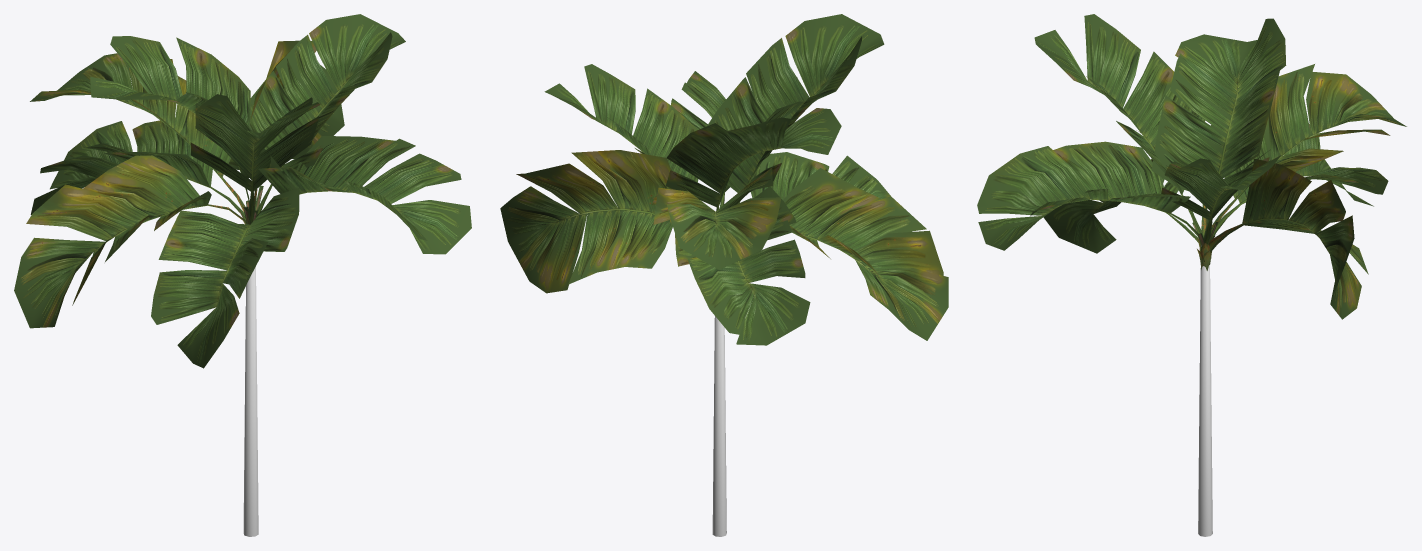
File: Arcea_palm3.fbx
3 renders of one model, left to right at view 1: azimuth 30°, elevation 25°; view 2: azimuth 150°, elevation 25°; view 3: azimuth 270°, elevation 25°, orthographic. The views are drawn at different scales.
Visible parts, largest first — view 1: polySurface118; view 2: polySurface118; view 3: polySurface118.
Boxes of the visible parts, x1,y1,x2,y2 form: polySurface118: [14, 14, 471, 536]; polySurface118: [500, 14, 948, 536]; polySurface118: [977, 14, 1406, 536].
Size of the model in its own units: 23.23 by 28.91 by 23.64.
Materials: 2 (1 with a texture image).
